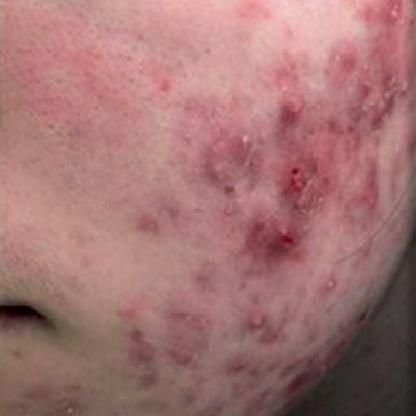Acne: (275, 149, 322, 201), (264, 216, 304, 256), (231, 127, 262, 158), (316, 264, 343, 298), (244, 307, 272, 337)
